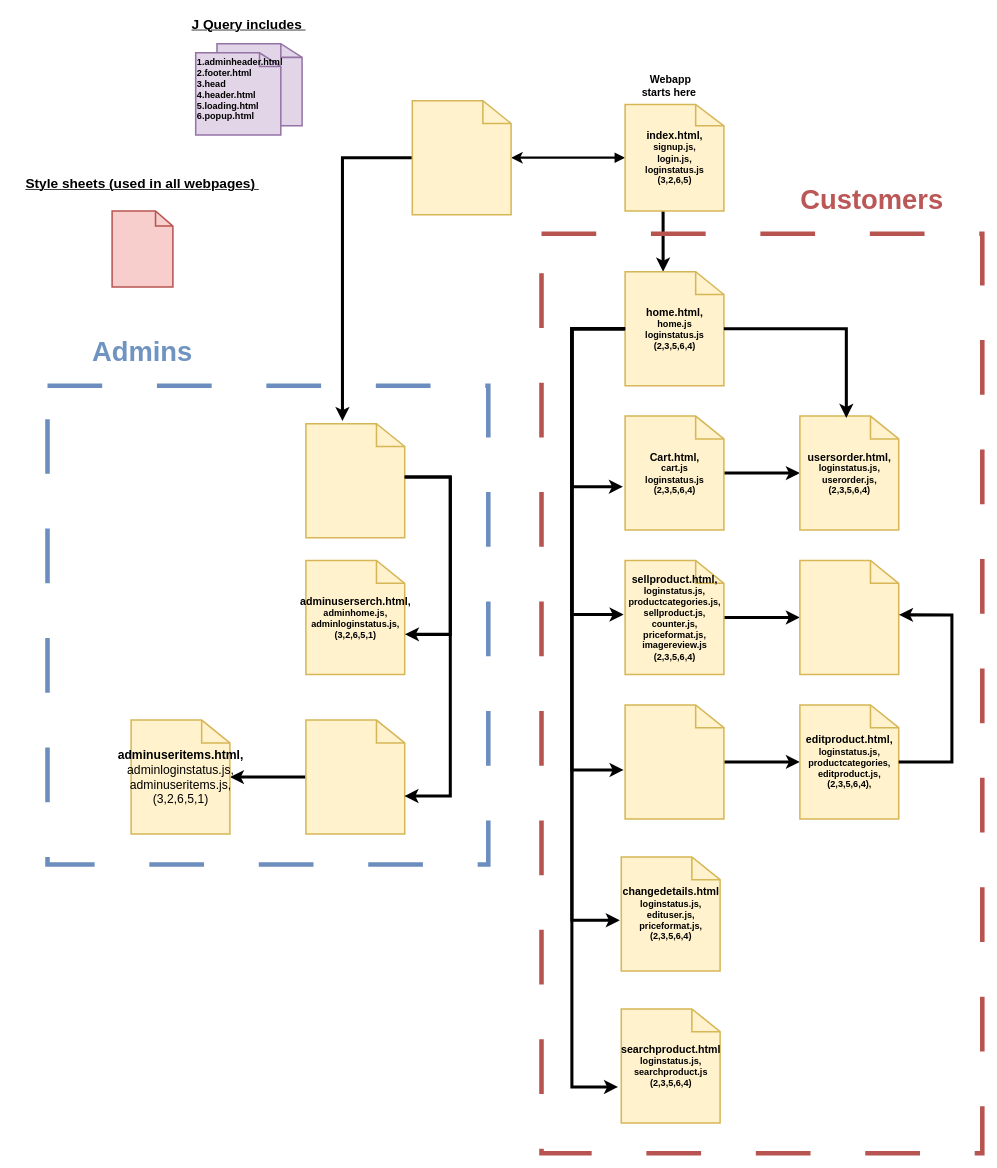
The diagram is 997 pixels wide and 1168 high, and some of its shapes have lost their labels. The shapes that lost their labels are listed below. From the top down, each one's centre as x and y in pixels, then its label:
At (x=461, y=157): "adminlogin.html, adminlogin.js adminloginstatus.js (3,2,6,5)".
At (x=142, y=248): "Style.css".
At (x=355, y=480): "adminhome.html , adminhome.js, adminloginstatus.js, (3,2,6,5,1)".
At (x=849, y=617): "success.html, loginstatus.js, (2,3,5,6,4)".
At (x=355, y=776): "createadmin .html , adminhome.js, createadmin.js , (3,2,6,5,1)".
At (x=674, y=761): "usersproducts.html, loginstatus.js, usersproducts.js, (2,3,5,6,4)".
